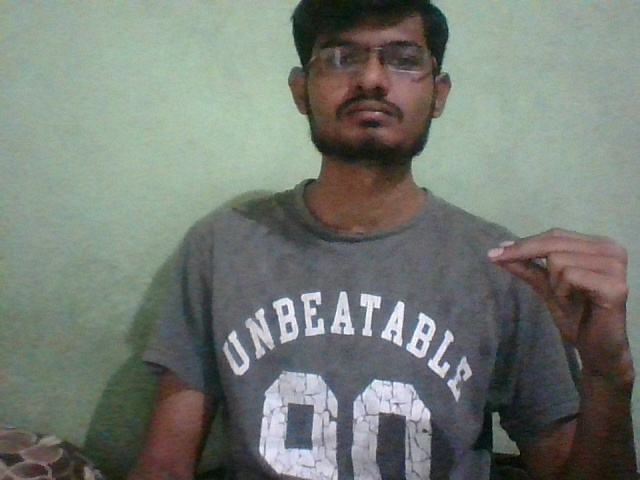no: (476, 223, 639, 360)
